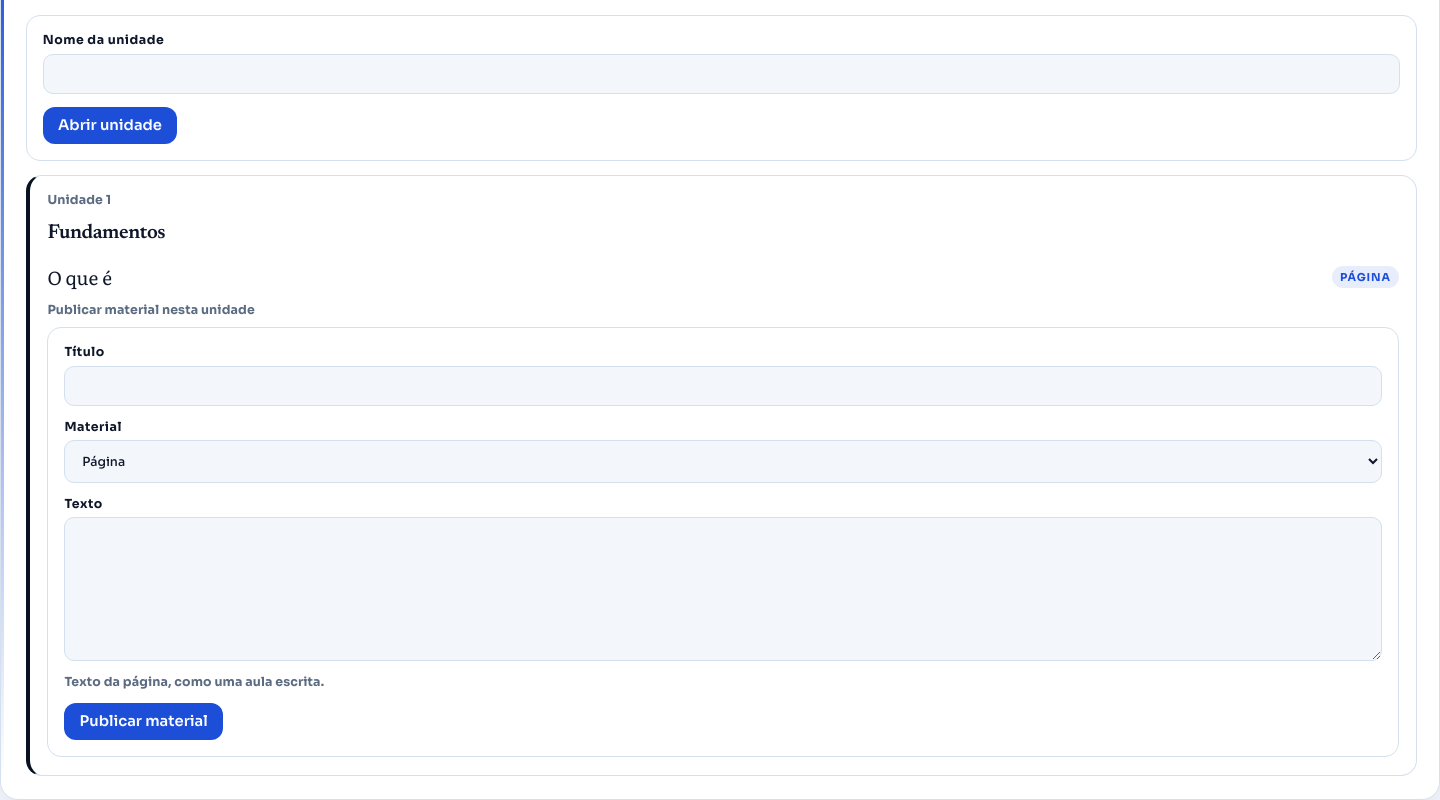
Test: CatalogView › asks for a file when the lesson is a video and for text when it is markdown
The image size is (1440, 800).
(page scrolled)
Expected: the text box labelled "Texto" is shown, [64, 517, 1382, 661]
Select "Vídeo" in the dropdown labelled "Material" at (723, 462), box [64, 440, 1382, 483]
(page scrolled)
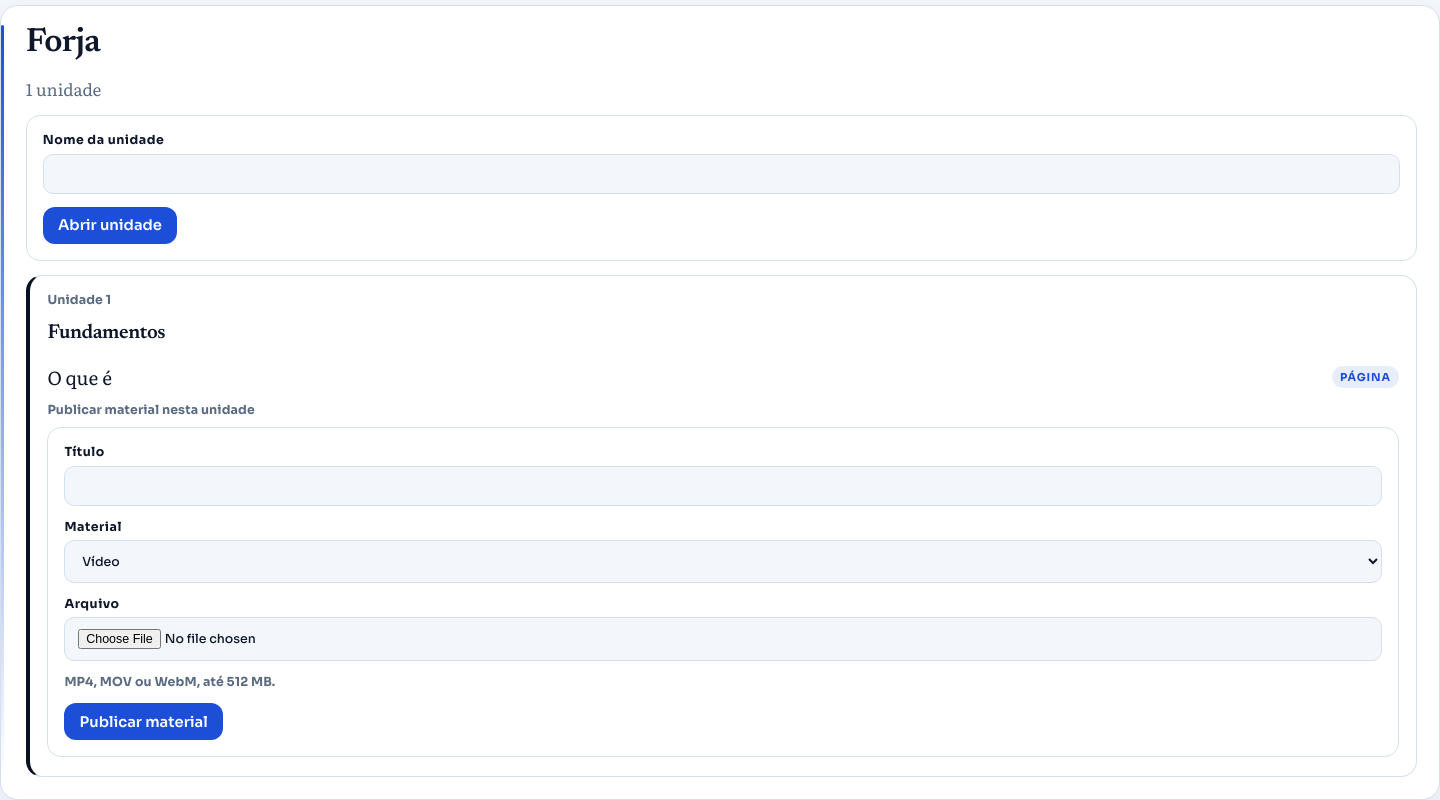
Now the label "Texto" is gone
Now the file field labelled "Arquivo" is shown, box [64, 617, 1382, 662]
